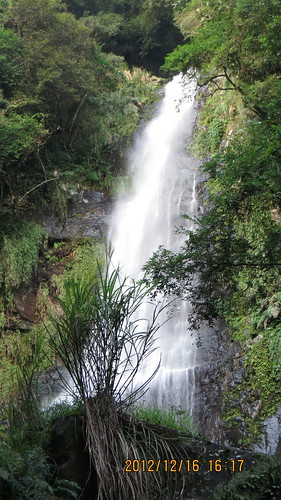wufengciWaterfall: (78, 63, 261, 409)
